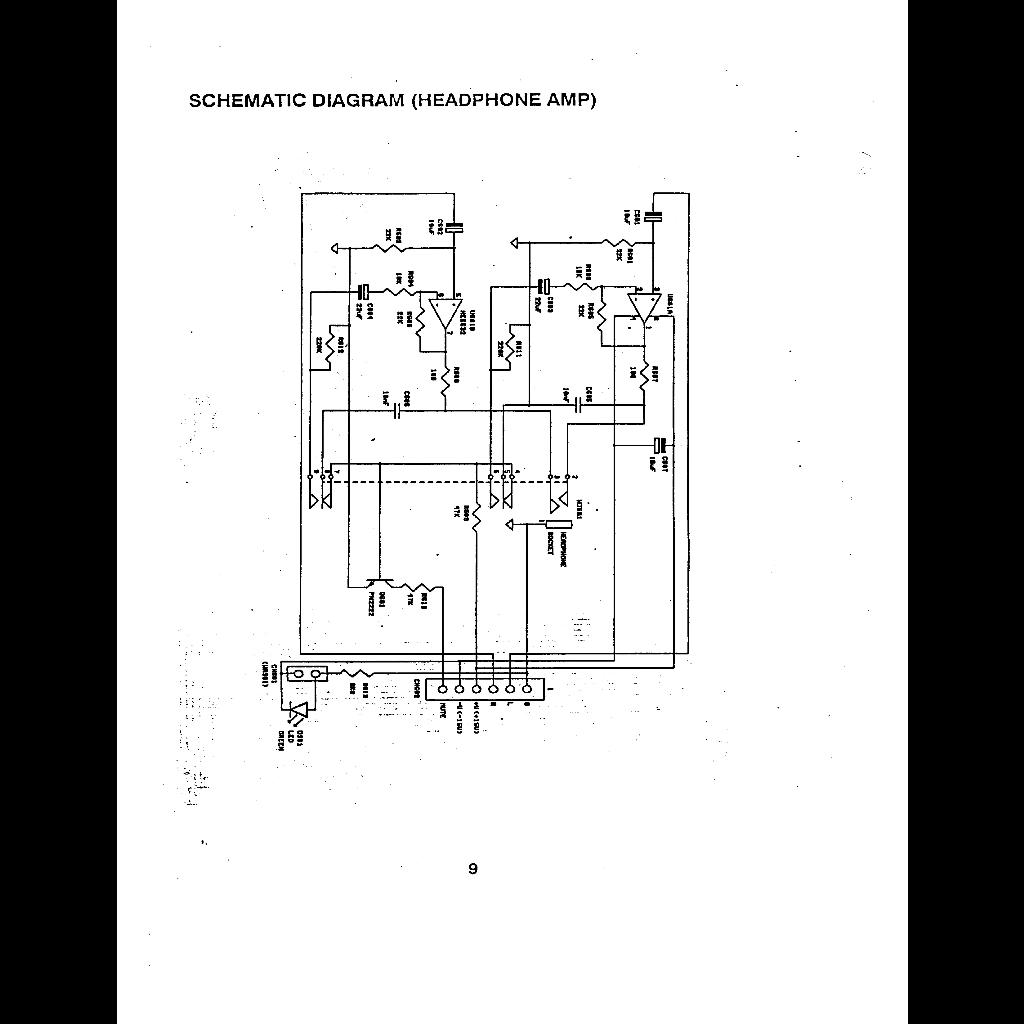Diagram: (252, 172, 706, 762)
